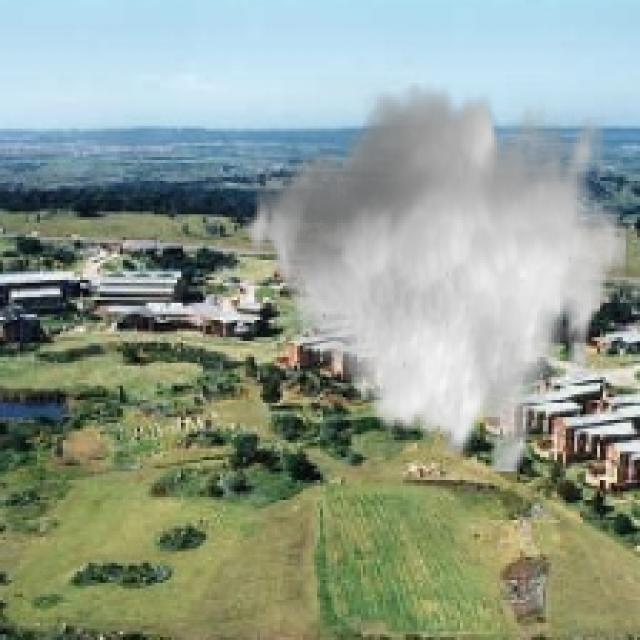smoke: (237, 83, 629, 474)
